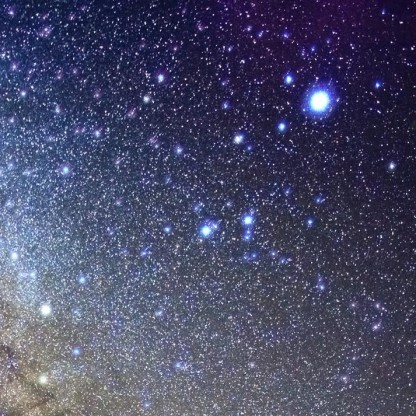Lyra: (301, 83, 342, 128), (188, 214, 216, 246), (235, 201, 256, 233), (223, 126, 245, 152), (275, 66, 297, 90), (272, 118, 294, 139)
